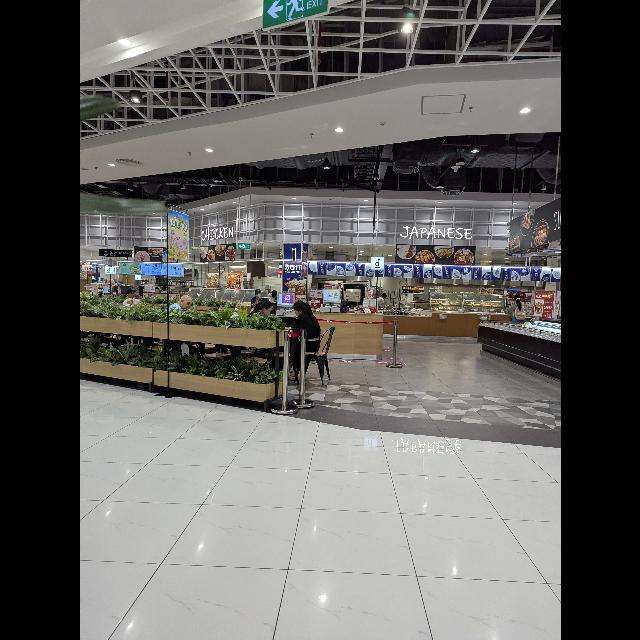exit: (260, 1, 316, 30)
